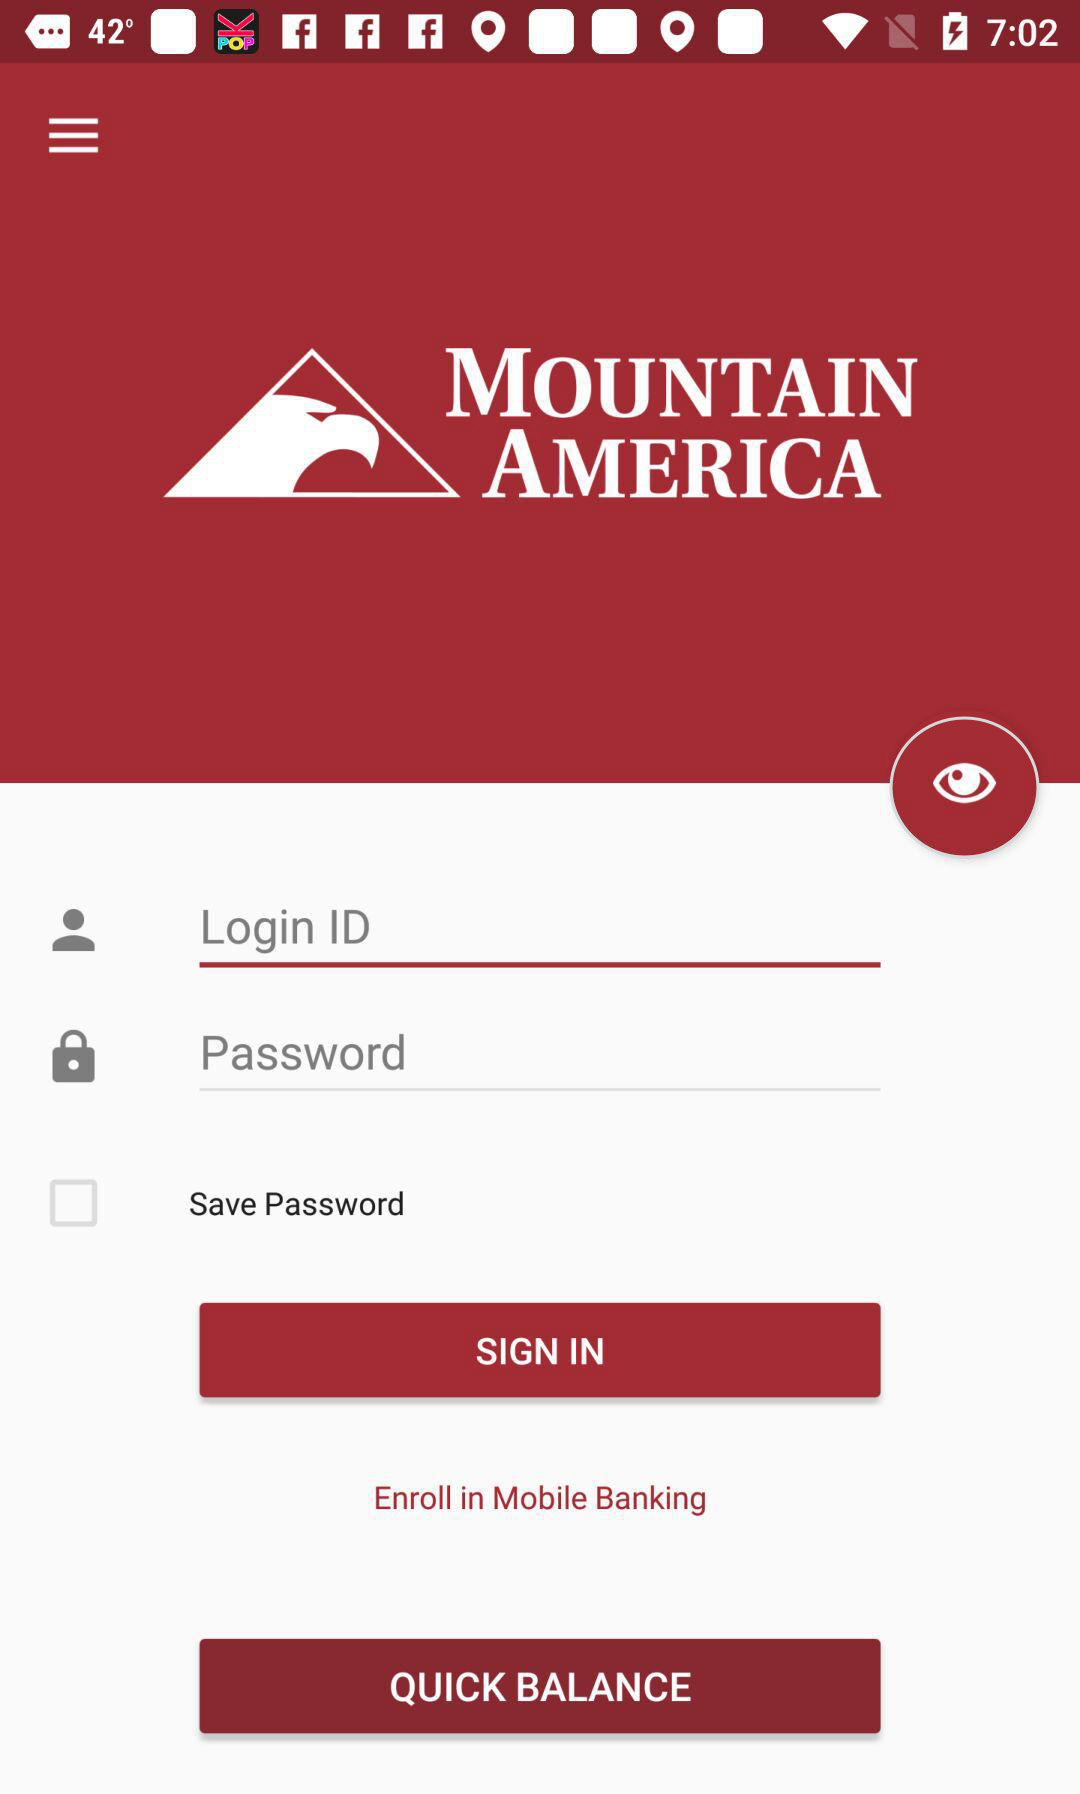CheckedTextView: (50, 1178, 405, 1228)
EditText: (199, 909, 881, 969), (199, 1033, 881, 1093)
Icon: (889, 716, 1039, 859), (53, 1029, 97, 1084), (47, 117, 101, 156), (53, 909, 97, 952)
Image: (163, 347, 919, 500)
Text: (375, 1483, 706, 1517), (202, 1034, 406, 1073), (202, 909, 372, 955), (190, 1190, 405, 1217)
TextButton: (199, 1302, 881, 1398), (199, 1638, 881, 1734)
UpperTaskBar: (1, 1, 1080, 64)
